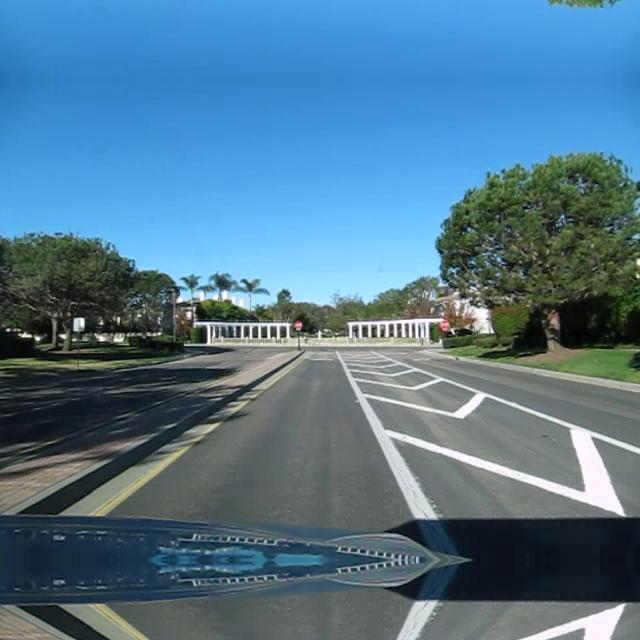stop: (439, 318, 449, 329), (294, 320, 302, 328)
